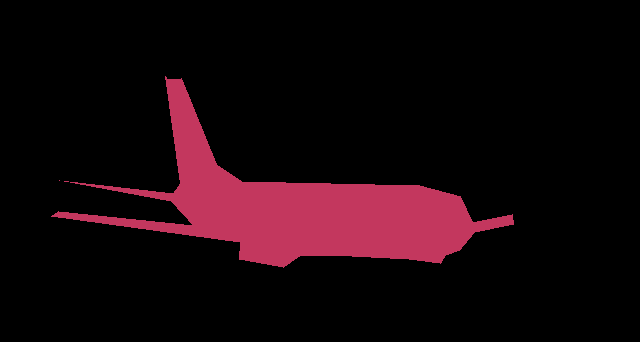Airplane: (51, 76, 513, 267)
